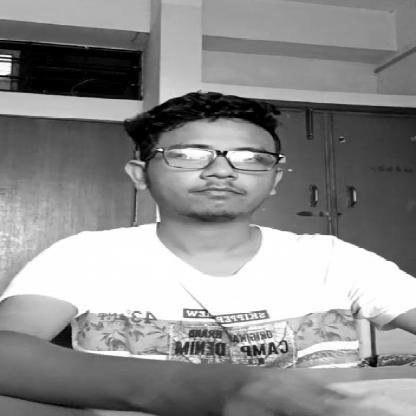Normal: (128, 115, 311, 219)
